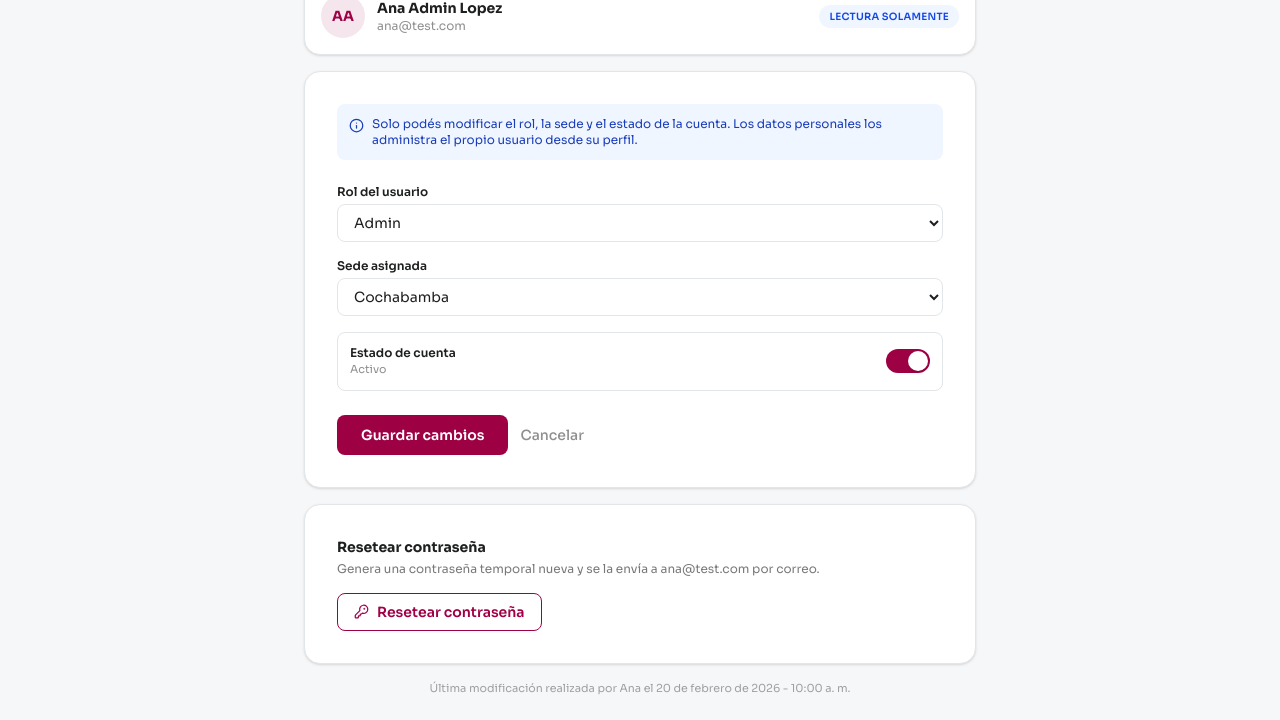
Test case: EditarUsuarioPage › si falla el envío del correo al resetear, muestra la contraseña temporal como respaldo
The image size is (1280, 720).
(page scrolled)
Expected: the text "Ana Admin Lopez" is shown, [377,0,502,17]
What coordinates should you click on to do the following:
click the button "Resetear contraseña"
I would click on:
 (439, 612)
Its box is [337,592,542,630].
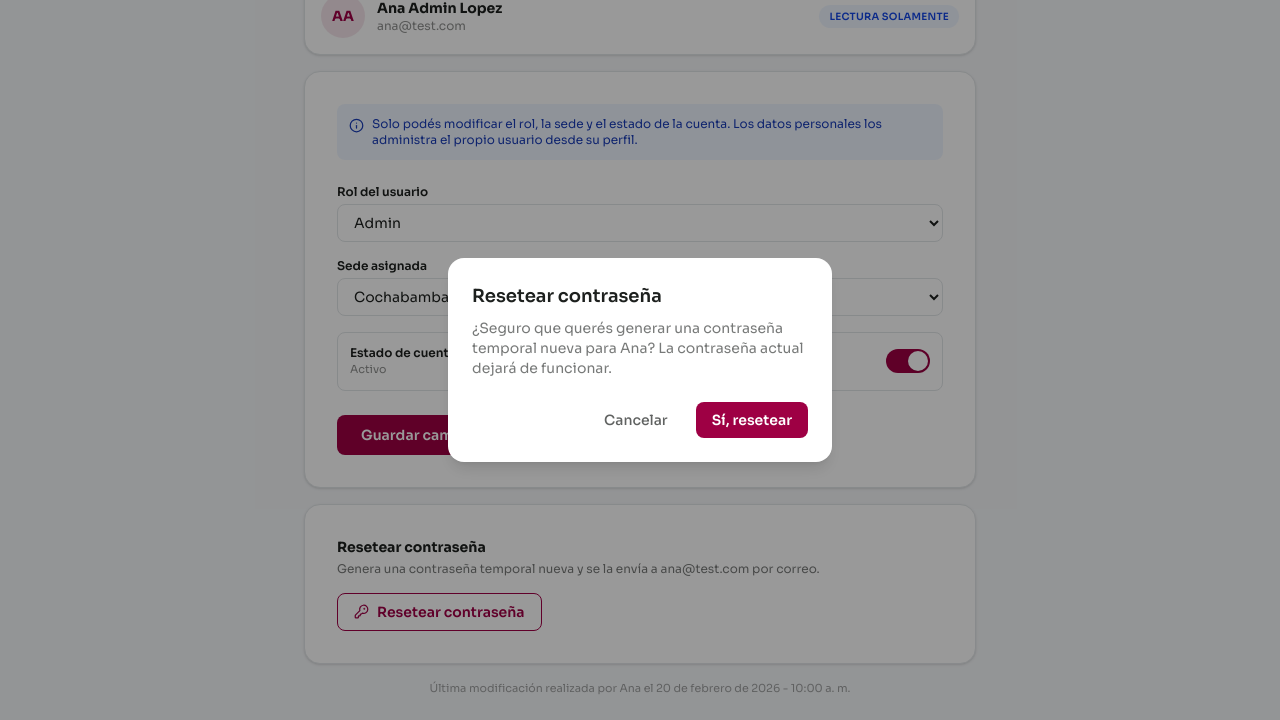
Result: the text "¿Seguro que querés generar" is shown at [472,319,804,377]
What coordinates should you click on to do the following:
click the button "Sí, resetear"
I would click on:
 (752, 420)
Its box is [696,402,808,438].
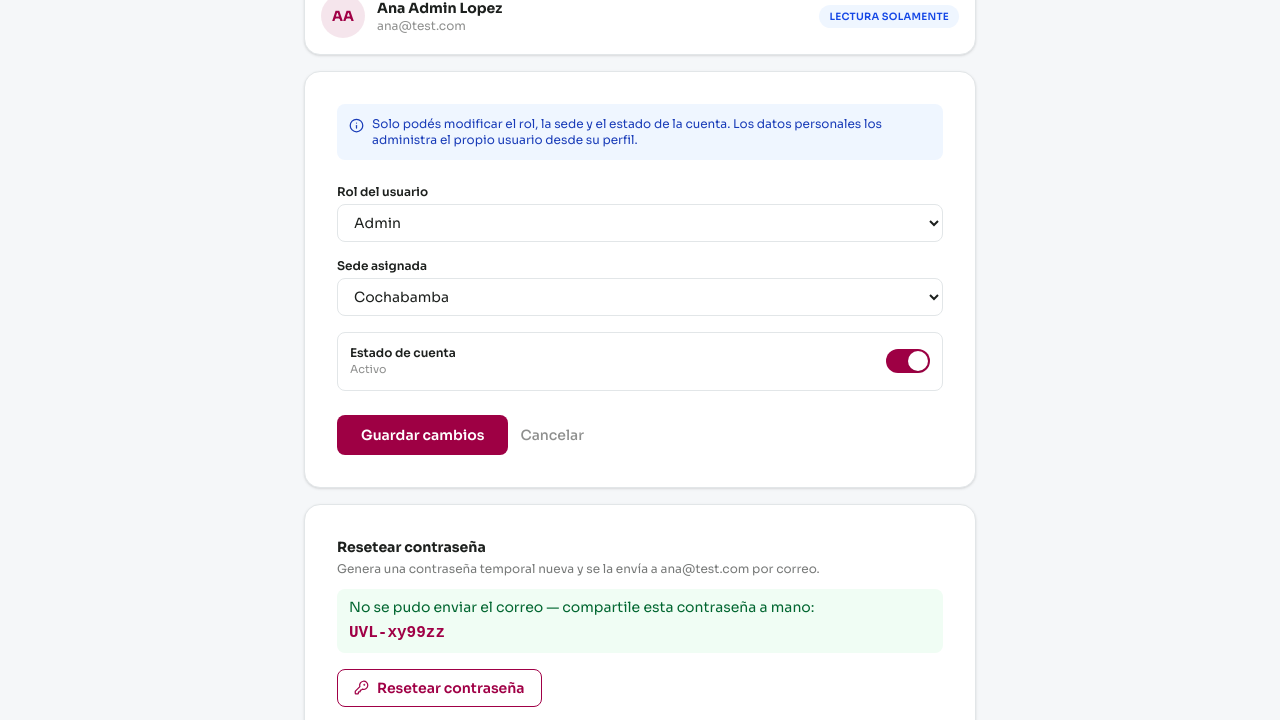
Result: the text "UVL-xy99zz" is shown at [349,624,445,642]
